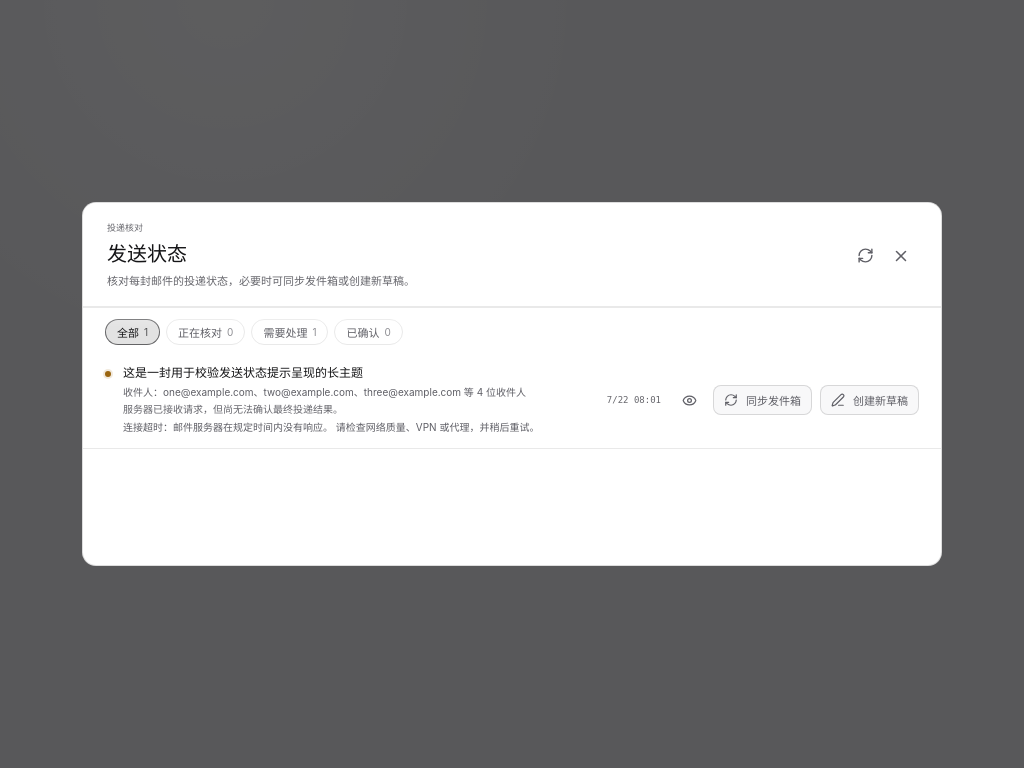
sending status modal read-only details dialog (client) › opens a read-only dialog exposing the complete message id and every recipient
Click the button named "查看“这是一封用于校验发送状态提示呈现的长主题”的详情" at (689,400), box [673,384,705,416]
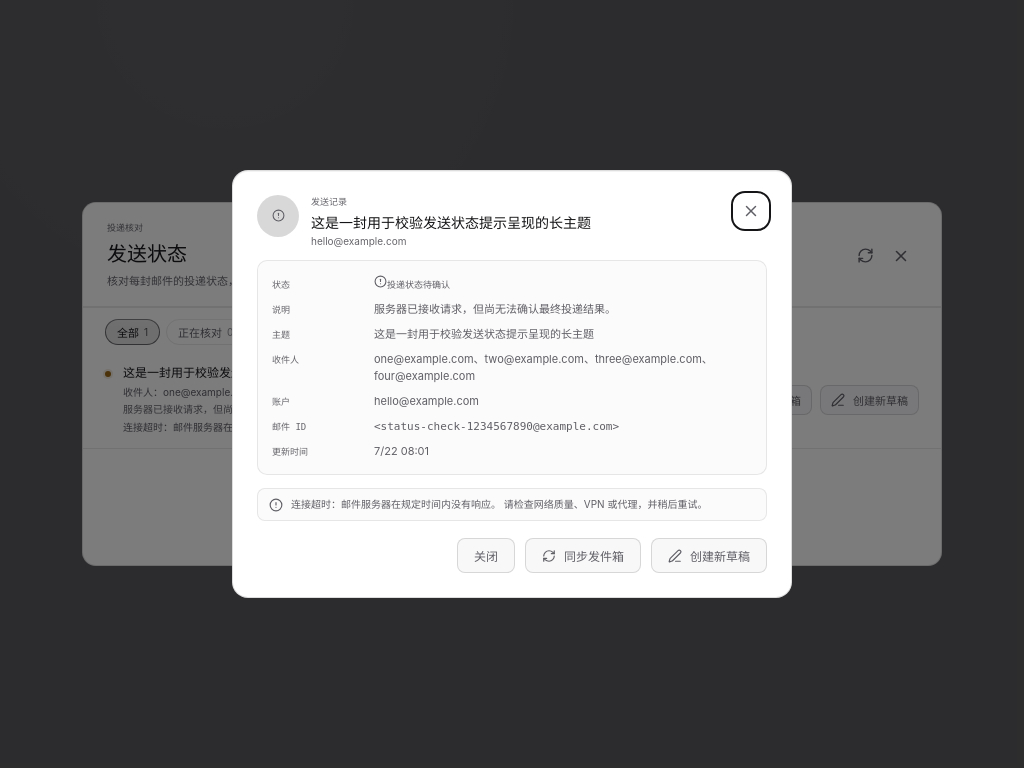
Expected: the dialog with class "sending-status-details-modal" is shown, [232,170,792,598]
Expected: the dialog with class "sending-status-details-modal" shows "one@example.com、two@example.com、three@example.com、four@example.com", [374,352,713,383]
Expected: the dialog with class "sending-status-details-modal" shows "主题", [272,330,290,340]
